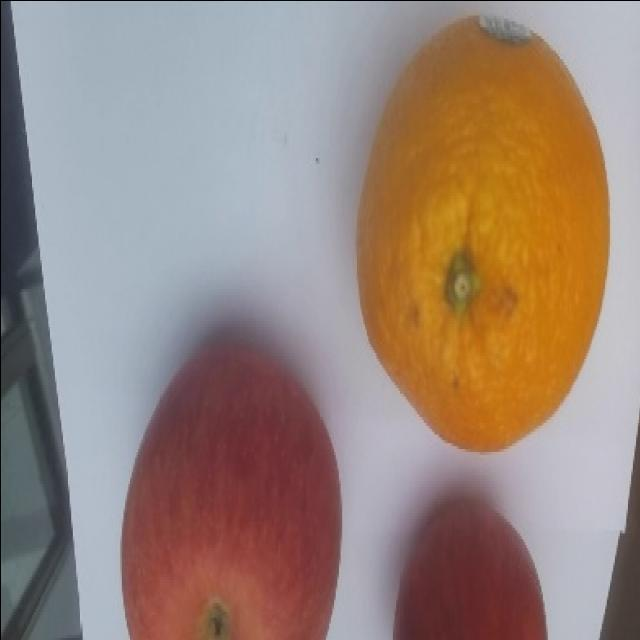Apple: (120, 338, 342, 639), (392, 494, 548, 639)
Orange: (354, 13, 611, 452)
